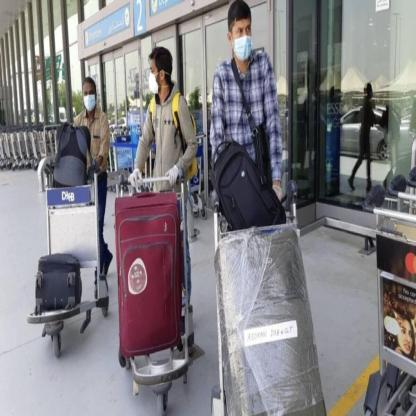airport-trolley: (211, 193, 316, 416), (111, 173, 193, 414), (27, 168, 110, 364), (365, 209, 416, 416)
